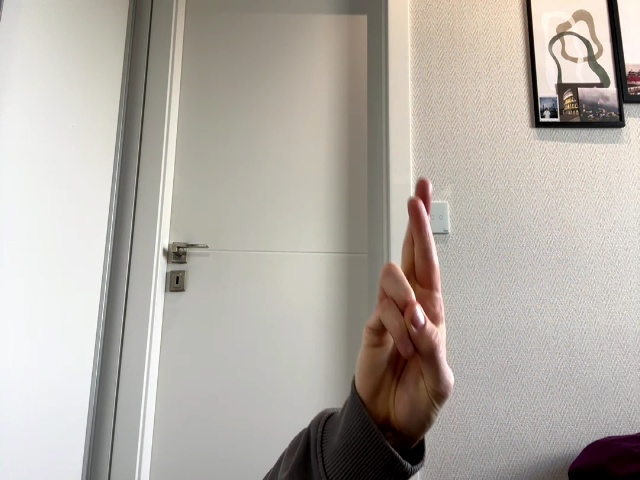R: (360, 179, 454, 411)
